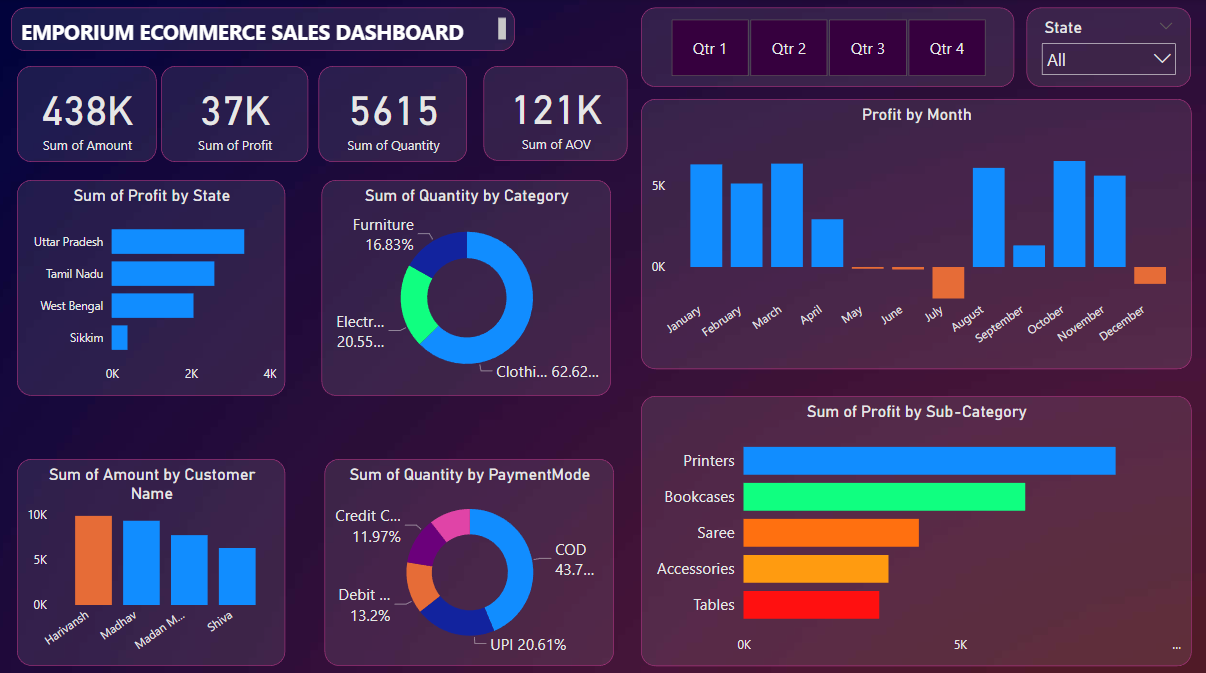

This screenshot's page, from the dashboard's own definition file:
{"tool":"powerbi","page":{"name":"Page 1","canvas":[1280,720],"ordinal":0},"visuals":[{"type":"columnChart","title":"Profit by Month","fields":{"Y":["Details.Profit"],"Category":["Orders (1).Order Date.Variation.Date Hierarchy.Month"]},"box":[671.6,106.2,573.2,281.1],"z":0},{"type":"barChart","fields":{"Category":["Details.Sub-Category"],"Y":["Details.Profit"]},"box":[671.6,415.4,573.2,281.1],"z":1000},{"type":"donutChart","fields":{"Y":["Details.Quantity"],"Category":["Details.PaymentMode"]},"box":[342,481,301.4,215.5],"z":2000},{"type":"donutChart","fields":{"Y":["Details.Quantity"],"Category":["Details.Category"]},"box":[338.9,190.5,301.4,224.9],"z":3000},{"type":"card","fields":{"Values":["Details.Amount"]},"box":[21.9,71.8,145.2,100],"z":4000},{"type":"card","fields":{"Values":["Details.Profit"]},"box":[171.8,71.8,153.1,100],"z":5000},{"type":"card","fields":{"Values":["Details.Quantity"]},"box":[335.8,71.8,154.6,100],"z":6000},{"type":"card","fields":{"Values":["Details.AOV"]},"box":[507.6,71.8,149.9,98.4],"z":7000},{"type":"barChart","fields":{"Y":["Details.Profit"],"Category":["Orders (1).State"]},"box":[21.9,190.5,279.6,224.9],"z":8000},{"type":"columnChart","fields":{"Category":["Orders (1).Customer Name"],"Y":["Details.Amount"]},"box":[21.9,481,279.6,215.5],"z":9000},{"type":"textbox","box":[15.6,10.9,524.8,45.3],"z":10000},{"type":"slicer","fields":{"Values":["Orders (1).State"]},"box":[1073.4,10.6,171.3,83],"z":10001},{"type":"slicer","fields":{"Values":["Orders (1).Order Date.Variation.Date Hierarchy.Quarter"]},"box":[670.9,10.6,388.4,83],"z":10002}]}

Visuals, with their boxes in screenshot pixels (x1, y1, x2, y2), scaled from the page's 1280x720 canvas onto the 1206x673 screenshot:
"Profit by Month" columnChart: bbox=(633, 99, 1173, 362)
barChart - Details.Sub-Category x Details.Profit: bbox=(633, 388, 1173, 651)
donutChart - Details.Quantity x Details.PaymentMode: bbox=(322, 450, 606, 651)
donutChart - Details.Quantity x Details.Category: bbox=(319, 178, 603, 388)
card - Details.Amount: bbox=(21, 67, 157, 161)
card - Details.Profit: bbox=(162, 67, 306, 161)
card - Details.Quantity: bbox=(316, 67, 462, 161)
card - Details.AOV: bbox=(478, 67, 619, 159)
barChart - Details.Profit x Orders (1).State: bbox=(21, 178, 284, 388)
columnChart - Orders (1).Customer Name x Details.Amount: bbox=(21, 450, 284, 651)
textbox: bbox=(15, 10, 509, 53)
slicer - Orders (1).State: bbox=(1011, 10, 1173, 87)
slicer - Orders (1).Order Date.Variation.Date Hierarchy.Quarter: bbox=(632, 10, 998, 87)
